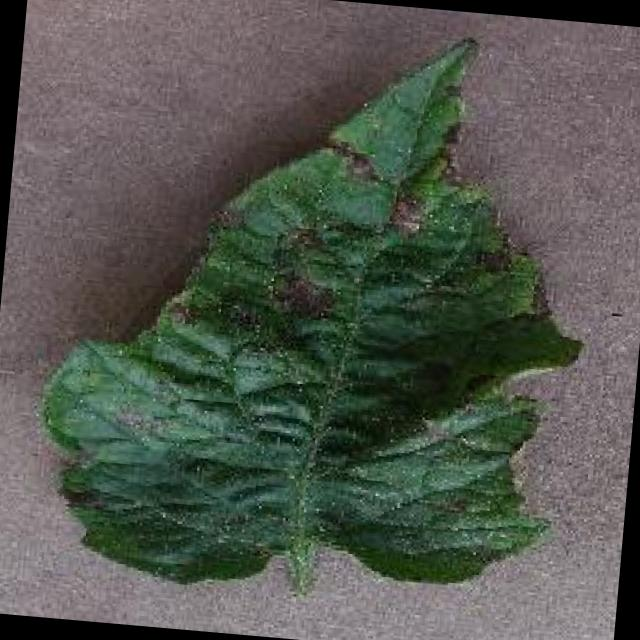Tomato_Early_Blight: (200, 110, 570, 339)
